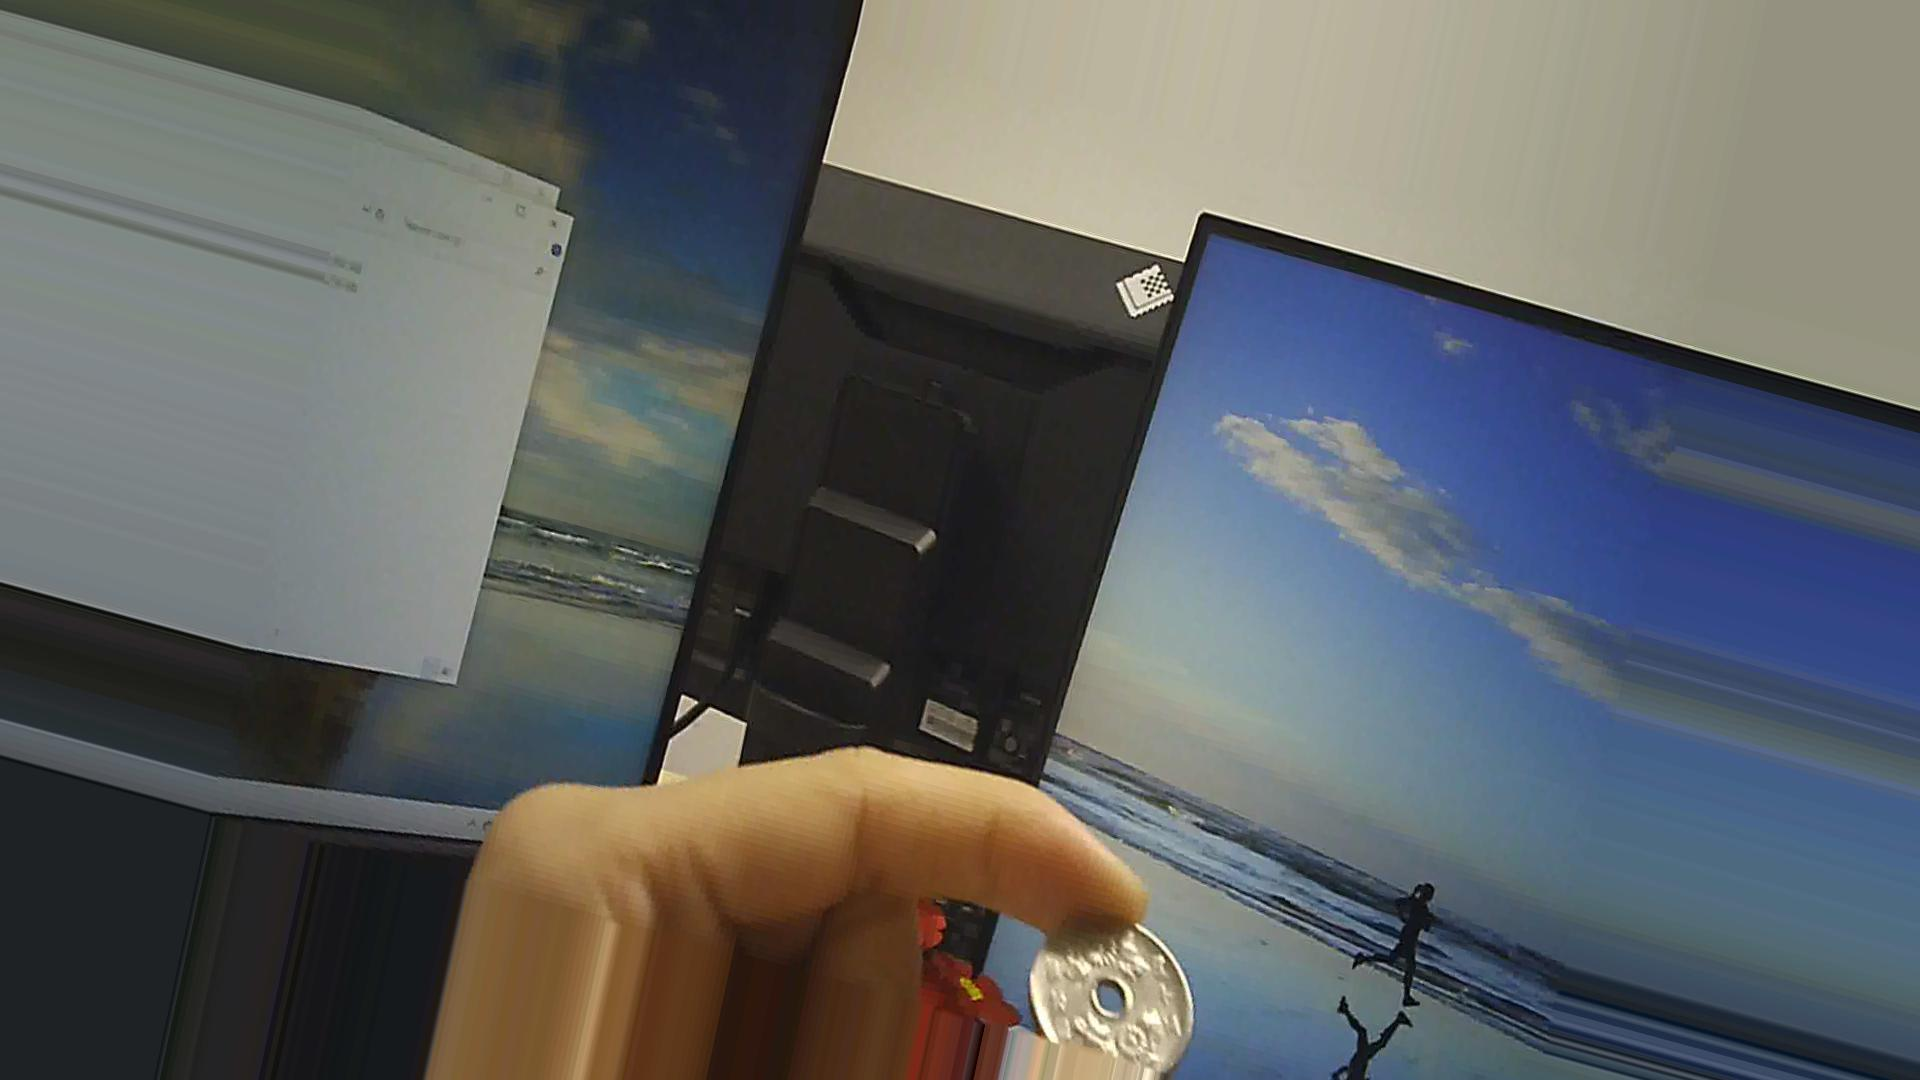50 Yen: (1029, 915, 1200, 1069)
